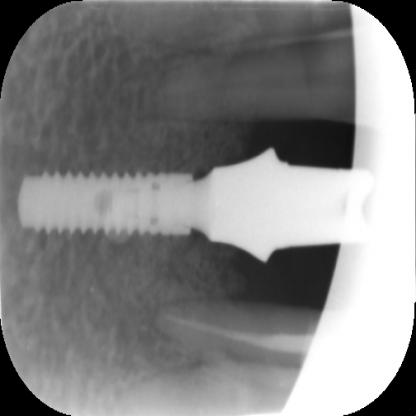ITI: (14, 116, 194, 299)
